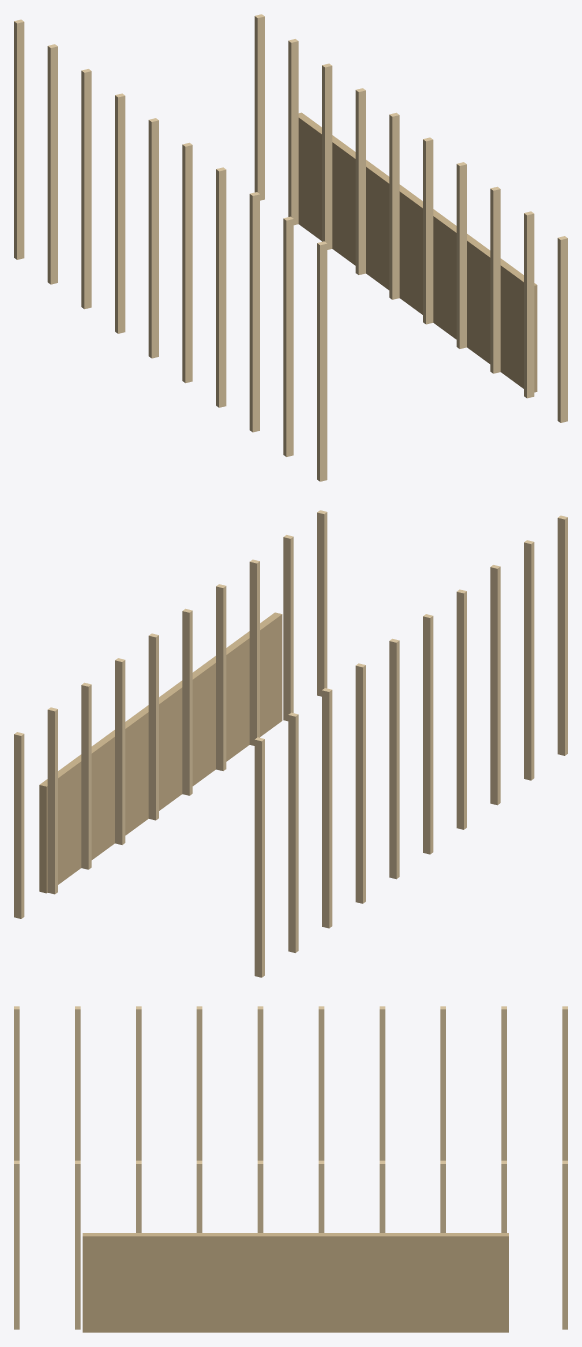
The model's file is structural-frame.glb.
3 views of the same model, one above another, from view 1: azimuth 30°, elevation 25°; view 2: azimuth 150°, elevation 25°; view 3: azimuth 270°, elevation 25° (orthographic). The views are drawn at different scales.
Parts seen in each view (by area): view 1: cutaway right framed half wall, visible 2x stud left 0, visible 2x stud left 48, visible 2x stud left 64, visible 2x stud left 16, visible 2x stud left 32, visible 2x stud left 80, visible 2x stud left 128, visible 2x stud left 96, visible 2x stud left 112, visible 2x stud left 144, visible 2x stud cutaway 64 (+9 smaller); view 2: cutaway right framed half wall, visible 2x stud left 80, visible 2x stud left 96, visible 2x stud left 144, visible 2x stud left 16, visible 2x stud left 64, visible 2x stud left 112, visible 2x stud left 128, visible 2x stud left 0, visible 2x stud left 32, visible 2x stud left 48, visible 2x stud cutaway 64 (+9 smaller); view 3: cutaway right framed half wall, visible 2x stud left 48, visible 2x stud left 64, visible 2x stud left 80, visible 2x stud left 96, visible 2x stud cutaway 0, visible 2x stud cutaway 16, visible 2x stud cutaway 144, visible 2x stud left 0, visible 2x stud left 16, visible 2x stud left 32, visible 2x stud left 112 (+9 smaller).
Boxes of the visible parts, x1,y1,x2,y2 form: cutaway right framed half wall: (298,112,537,392); visible 2x stud left 0: (317,241,327,481); visible 2x stud left 48: (216,167,226,407); visible 2x stud left 64: (182,142,192,383); visible 2x stud left 16: (283,216,293,456); visible 2x stud left 32: (249,192,259,432); visible 2x stud left 80: (148,118,158,358); visible 2x stud left 128: (47,44,57,284); visible 2x stud left 96: (115,93,125,333); visible 2x stud left 112: (81,69,91,309); visible 2x stud left 144: (14,19,24,259); visible 2x stud cutaway 64: (423,137,433,324); cutaway right framed half wall: (39,612,282,893); visible 2x stud left 80: (389,638,399,879); visible 2x stud left 96: (355,663,365,903); visible 2x stud left 144: (254,737,264,977); visible 2x stud left 16: (524,540,534,780); visible 2x stud left 64: (423,614,433,854); visible 2x stud left 112: (322,688,332,928); visible 2x stud left 128: (288,712,298,952); visible 2x stud left 0: (557,515,567,755); visible 2x stud left 32: (490,565,500,805); visible 2x stud left 48: (456,589,466,829); visible 2x stud cutaway 64: (182,608,192,795); cutaway right framed half wall: (82,1233,508,1332); visible 2x stud left 48: (196,1006,202,1160); visible 2x stud left 64: (257,1006,263,1160); visible 2x stud left 80: (318,1006,324,1160); visible 2x stud left 96: (379,1006,385,1160); visible 2x stud cutaway 0: (14,1160,19,1329); visible 2x stud cutaway 16: (75,1160,80,1329); visible 2x stud cutaway 144: (562,1160,567,1329); visible 2x stud left 0: (14,1006,19,1160); visible 2x stud left 16: (75,1006,80,1160); visible 2x stud left 32: (136,1006,141,1160); visible 2x stud left 112: (440,1006,445,1160).
Bounding box in the file's own units: 1.78 × 1.57 × 3.7.
